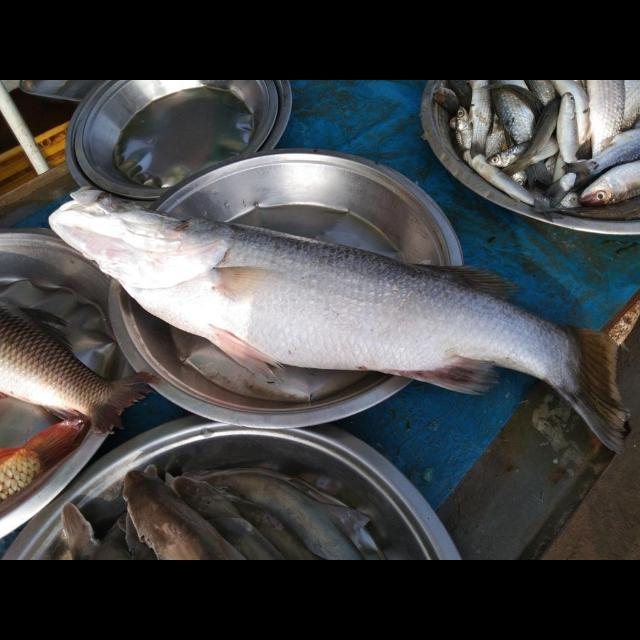Seabass: (49, 185, 628, 453)
